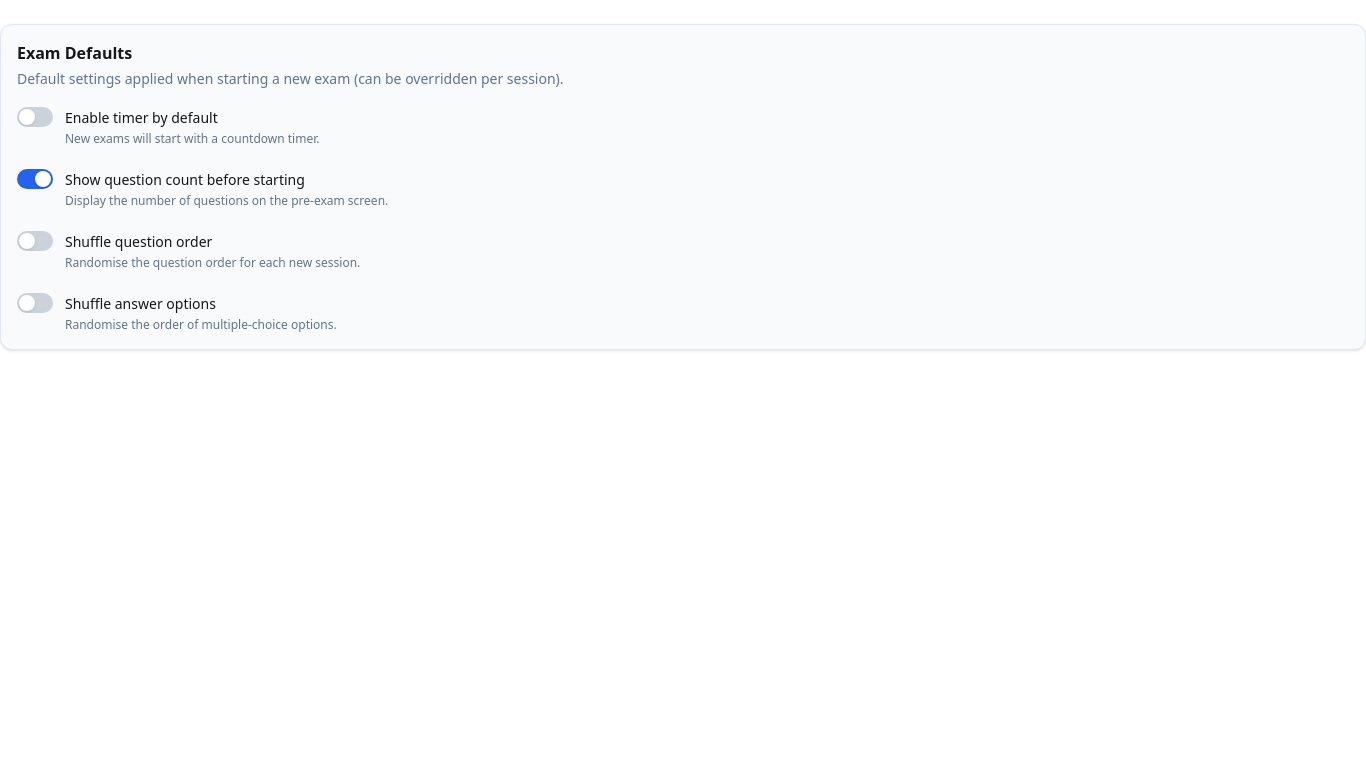
Test case: <ExamDefaultsSettings> › seeds a sensible default minutes value when enabling timer from null
Expected: the field labelled "default minutes" is not shown
Note: Toggle "Enable timer by default" ON.
Click the switch named "enable timer" next to "Enable timer by default".
click(35, 117)  # box top-left (17, 107), bottom-right (53, 127)
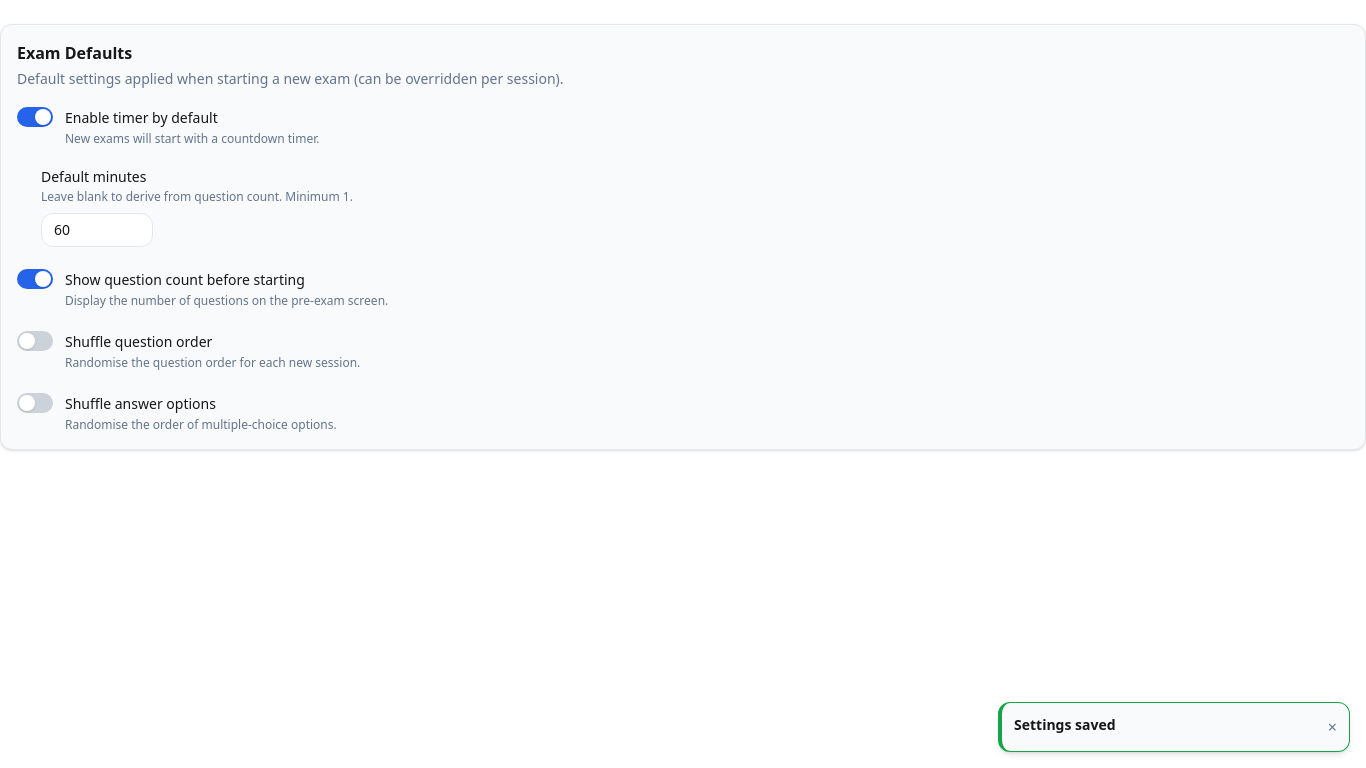
Expected: the number field labelled "Default minutes" is not empty, top-left (41, 213), bottom-right (153, 247)
